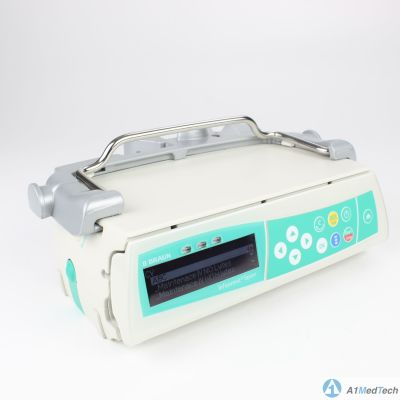BBraun Infusomat Space: (18, 114, 393, 351)
